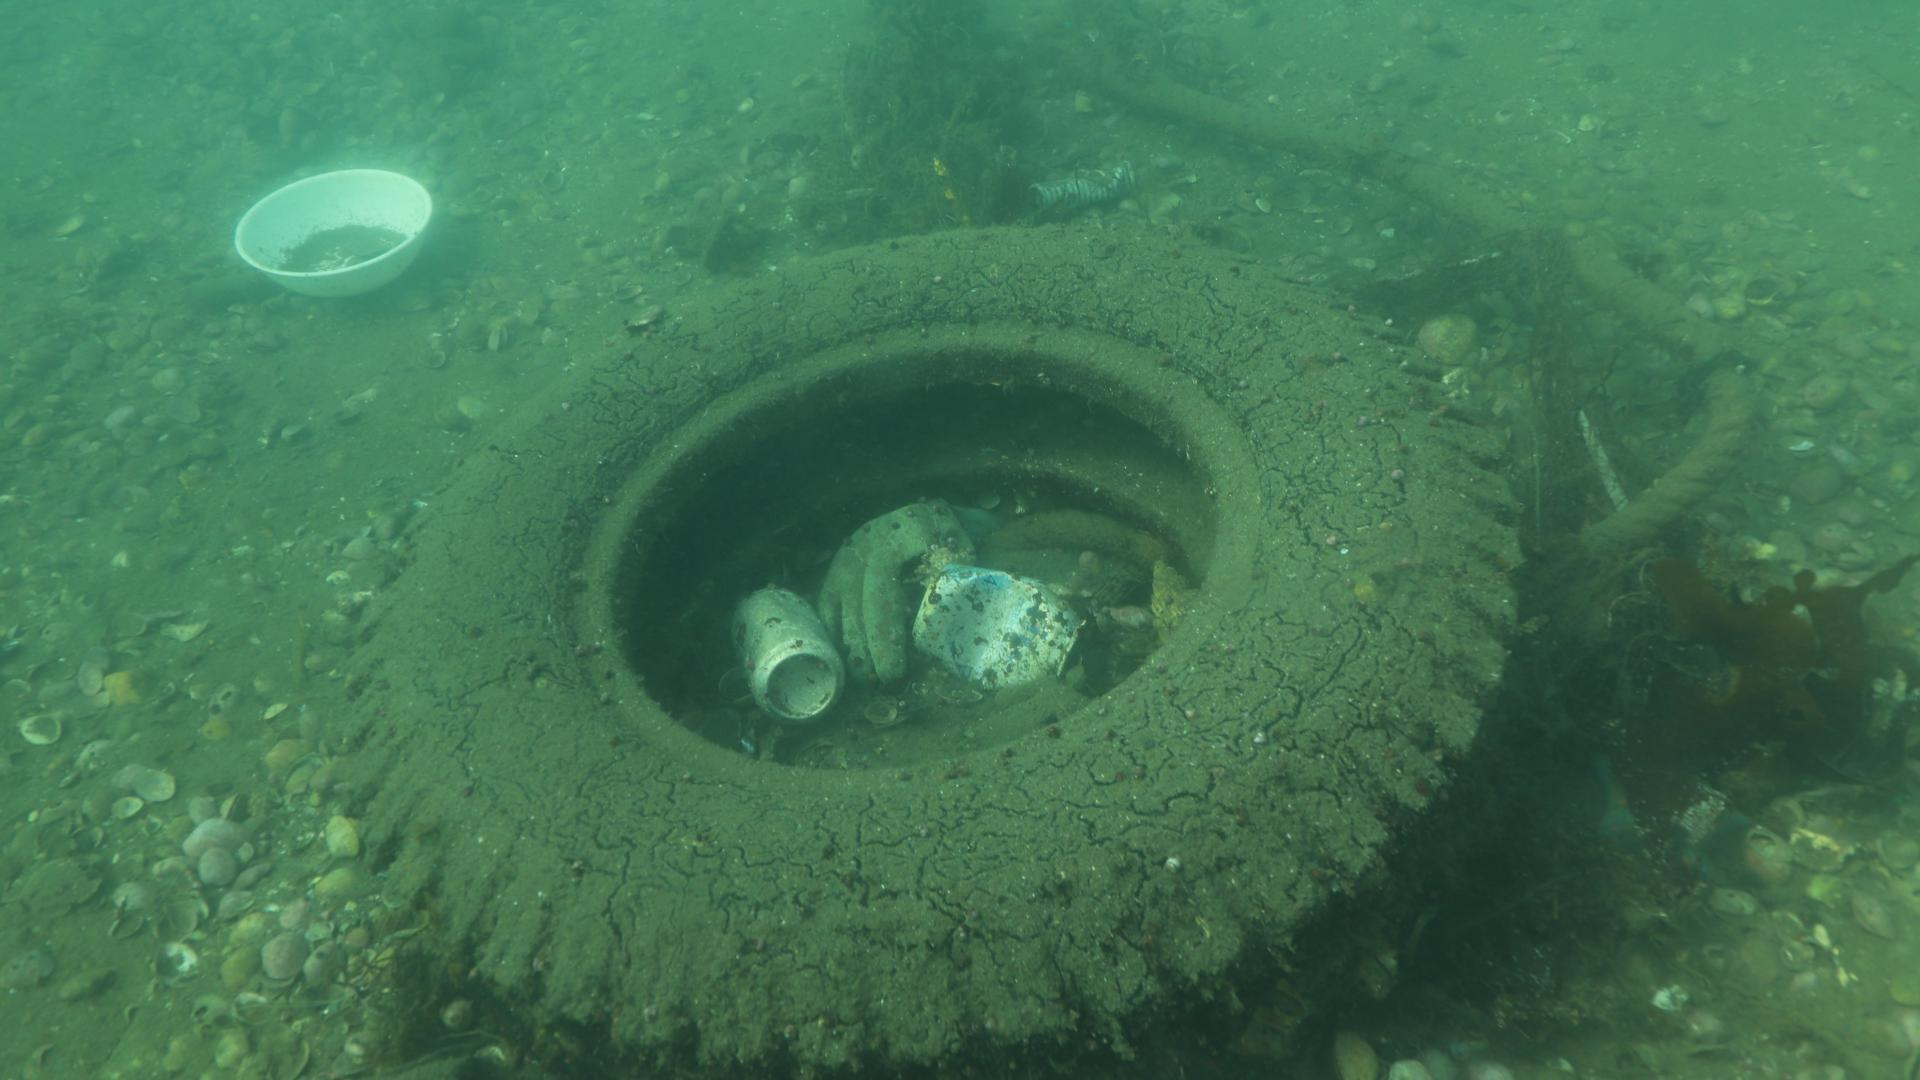rope: (1100, 74, 1750, 553)
tire: (335, 225, 1527, 1080)
